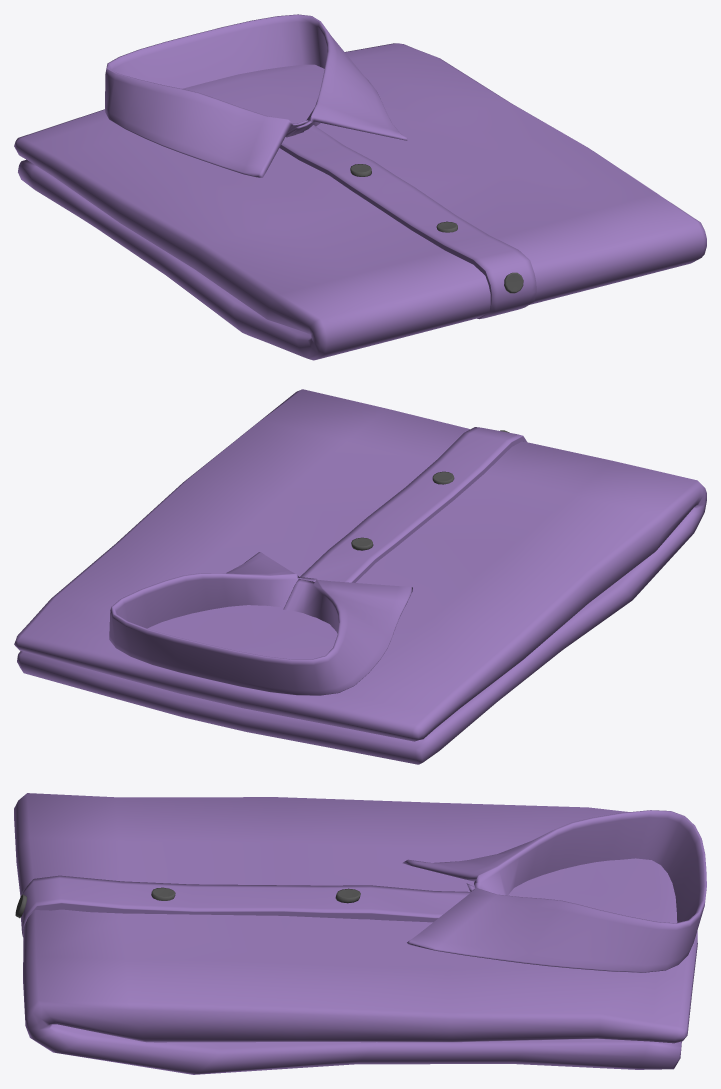
File: Folded_Shirt02.fbx
3 renders of one model, top to bottom at view 1: azimuth 30°, elevation 25°; view 2: azimuth 150°, elevation 25°; view 3: azimuth 270°, elevation 25°, orthographic. The views are drawn at different scales.
Parts seen in each view (by area): view 1: Folded_Shirt02; view 2: Folded_Shirt02; view 3: Folded_Shirt02.
Boxes of the visible parts, x1,y1,x2,y2 form: Folded_Shirt02: (14,14,706,360); Folded_Shirt02: (14,389,706,764); Folded_Shirt02: (14,793,706,1074).
Bounding box in the file's own units: 25.23 × 5.51 × 33.33.
